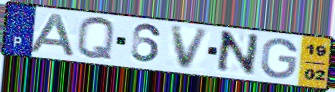6: (130, 22, 162, 66)
A: (26, 12, 78, 59)
G: (259, 37, 300, 81)
N: (213, 29, 262, 78)
Q: (75, 15, 117, 62)
V: (169, 25, 213, 71)
